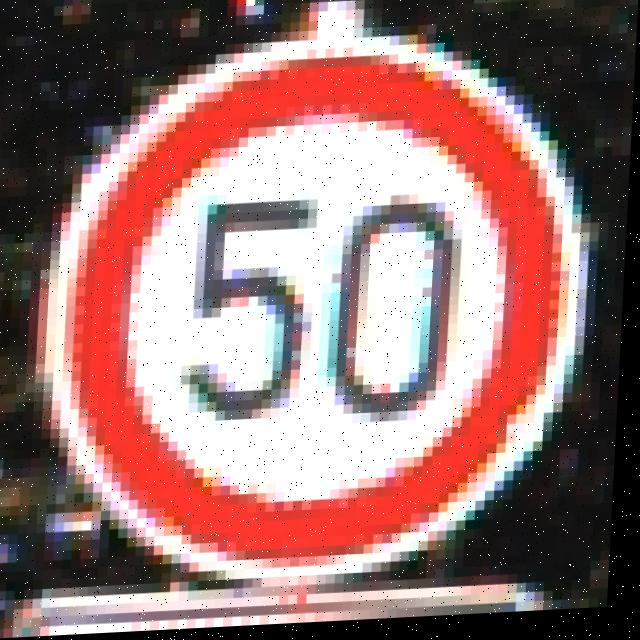speed_limit_50: (23, 29, 615, 593)
